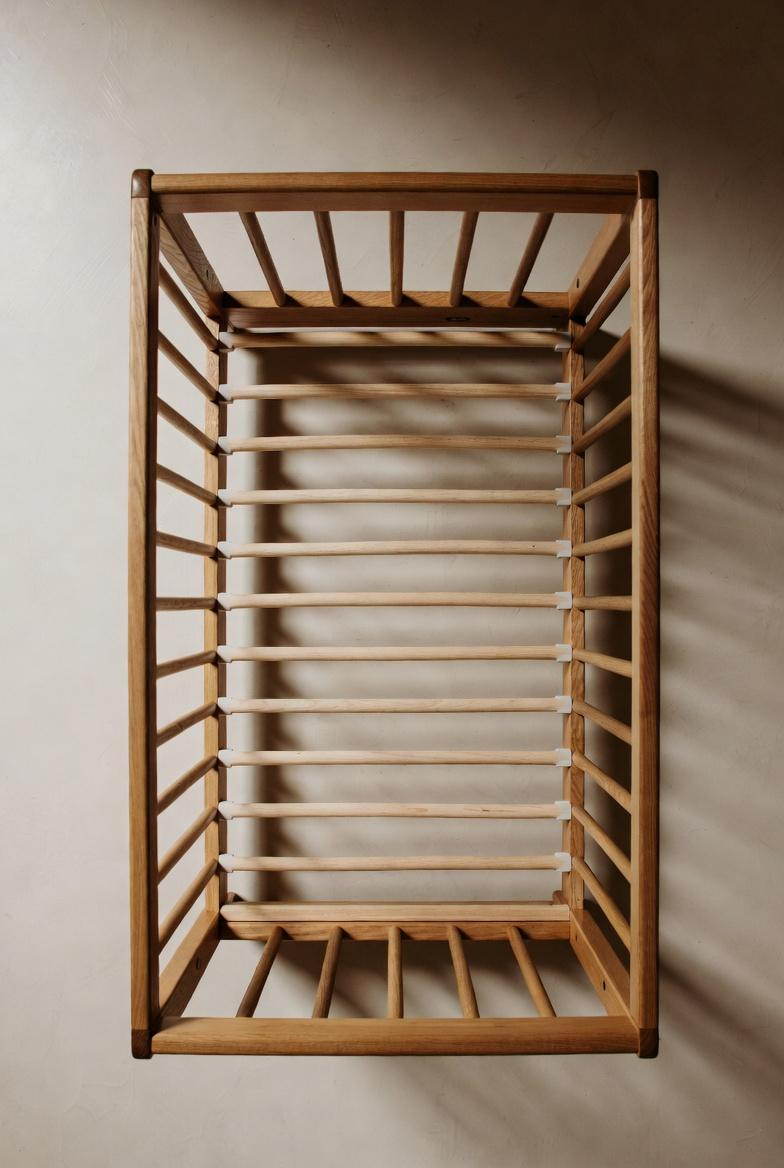crib: (129, 171, 658, 1057)
